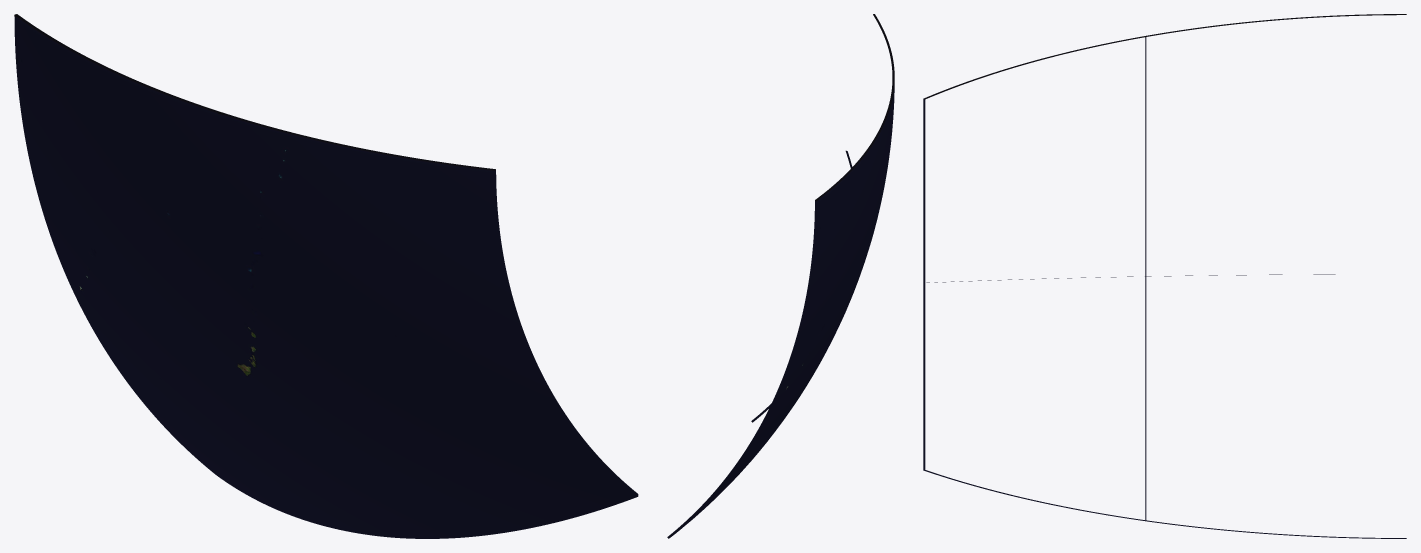
3 renders of one model, left to right at view 1: azimuth 30°, elevation 25°; view 2: azimuth 150°, elevation 25°; view 3: azimuth 270°, elevation 25°, orthographic. The views are drawn at different scales.
Parts seen in each view (by area): view 1: DefaultName.012, DefaultName.003, DefaultName.009, DefaultName.006; view 2: DefaultName.003, DefaultName.006, DefaultName.012; view 3: DefaultName.009, DefaultName.012, DefaultName.006, DefaultName.003.
Part boxes in pixels (left/top/right/bottom): DefaultName.012: left=218, top=111, right=532, bottom=366; DefaultName.003: left=14, top=14, right=266, bottom=355; DefaultName.009: left=266, top=355, right=638, bottom=538; DefaultName.006: left=67, top=278, right=403, bottom=538; DefaultName.003: left=776, top=109, right=889, bottom=393; DefaultName.006: left=667, top=321, right=841, bottom=538; DefaultName.012: left=873, top=14, right=894, bottom=212; DefaultName.009: left=923, top=276, right=1145, bottom=520; DefaultName.012: left=923, top=36, right=1145, bottom=282; DefaultName.006: left=1145, top=274, right=1406, bottom=538; DefaultName.003: left=1145, top=14, right=1406, bottom=276.
Size of the model in its own units: 31962 by 45100 by 44873.
Materials: 4 (4 with a texture image).
